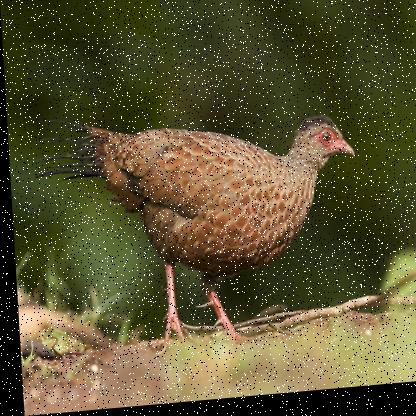Burung: (26, 105, 360, 357)
